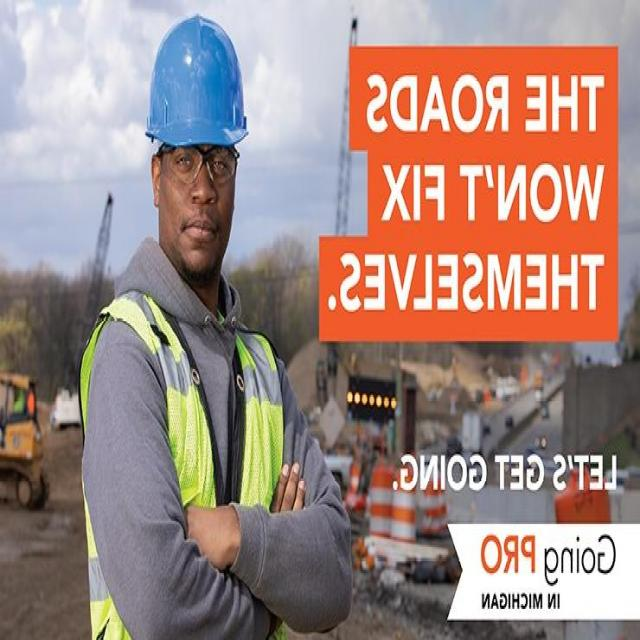Reflective-Jacket: (77, 281, 290, 637)
Safety-Helmet: (139, 7, 253, 155)
